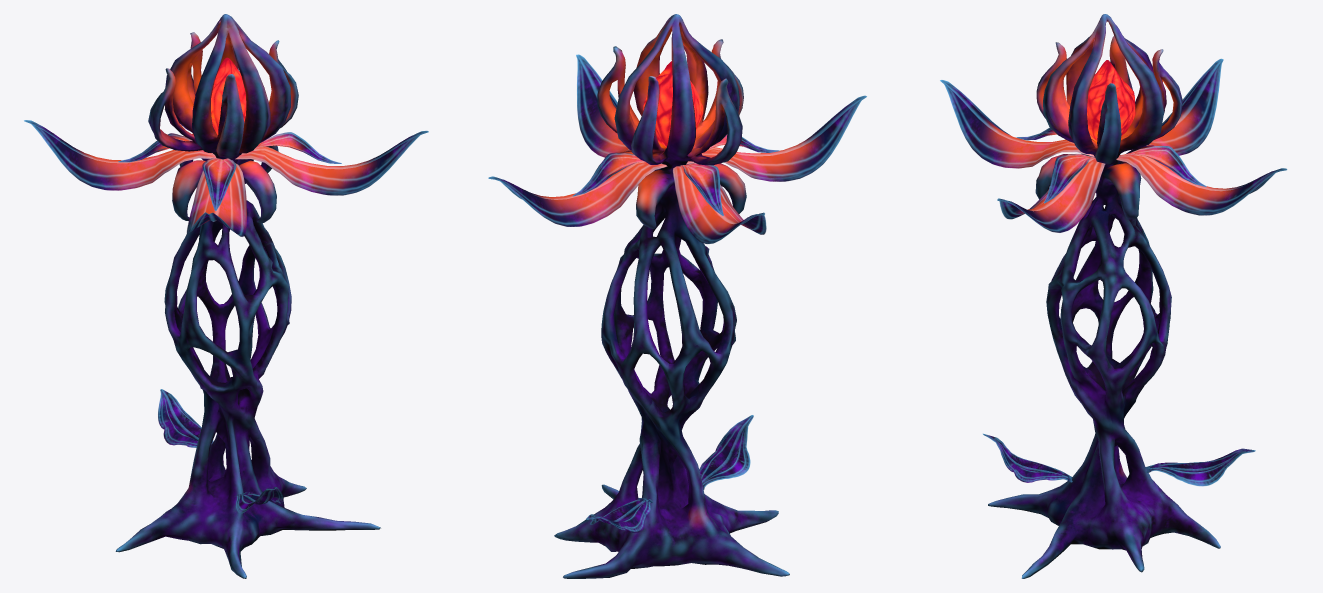
Rendered from hollow_bloom_-_alien_plant.glb.
The picture shows the model from 3 angles, left to right: view 1: azimuth 30°, elevation 25°; view 2: azimuth 150°, elevation 25°; view 3: azimuth 270°, elevation 25°; orthographic projection. The views are drawn at different scales.
Visible parts, largest first — view 1: cage low uv.001, big leave.008, big leave.006, big leave.007, low leave.003, core low uv.001, tri leave.008, tri leave.007, low leave.004; view 2: cage low uv.001, big leave.007, big leave.002, big leave.008, big leave.006, low leave.004, core low uv.001, low leave.003, tri leave.005, tri leave.006; view 3: cage low uv.001, big leave.007, big leave.002, big leave.006, big leave.008, core low uv.001, low leave.003, low leave.004, tri leave.007, tri leave.006.
Boxes of the visible parts, x1,y1,x2,y2 form: cage low uv.001: (115, 14, 380, 578); big leave.008: (24, 120, 216, 190); big leave.006: (235, 130, 428, 195); big leave.007: (187, 163, 246, 236); low leave.003: (158, 389, 213, 447); core low uv.001: (211, 57, 246, 135); tri leave.008: (202, 157, 236, 210); tri leave.007: (255, 132, 341, 163); low leave.004: (234, 486, 283, 513); cage low uv.001: (554, 14, 789, 578); big leave.007: (686, 95, 866, 181); big leave.002: (488, 161, 667, 226); big leave.008: (673, 164, 766, 243); big leave.006: (576, 54, 631, 157); low leave.004: (699, 415, 753, 489); core low uv.001: (643, 61, 703, 147); low leave.003: (586, 498, 652, 532); tri leave.005: (680, 163, 723, 215); tri leave.006: (572, 152, 661, 196); cage low uv.001: (988, 14, 1220, 578); big leave.007: (940, 80, 1094, 168); big leave.002: (1116, 152, 1287, 215); big leave.006: (997, 158, 1105, 232); big leave.008: (1146, 58, 1223, 155); core low uv.001: (1087, 60, 1135, 140); low leave.003: (1145, 448, 1255, 486); low leave.004: (983, 433, 1072, 482); tri leave.007: (1044, 153, 1095, 203); tri leave.006: (1119, 146, 1206, 186).
Size of the model in its own units: 1.45 by 2.14 by 1.49.
2 materials, 2 textured.
